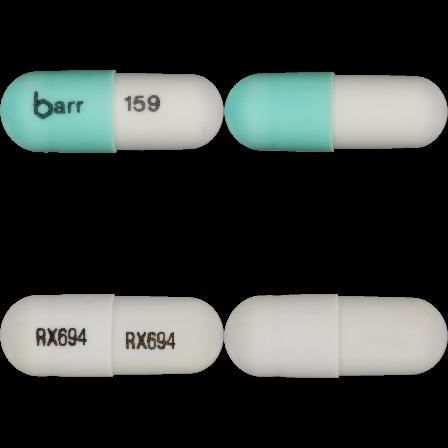54868-2361: (0, 0, 224, 224)
